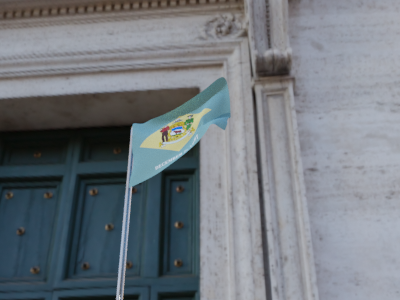Delaware flag: (124, 74, 233, 186)
